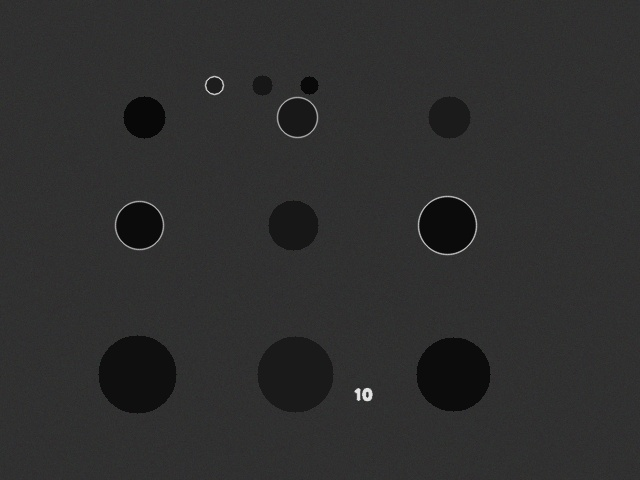hole: (98, 335, 176, 413), (257, 336, 333, 412), (416, 337, 490, 411), (418, 196, 476, 254), (268, 200, 318, 250), (115, 201, 163, 249), (123, 96, 165, 138), (428, 96, 470, 138), (277, 97, 317, 137), (252, 75, 272, 95), (205, 76, 223, 94), (300, 76, 318, 94)
